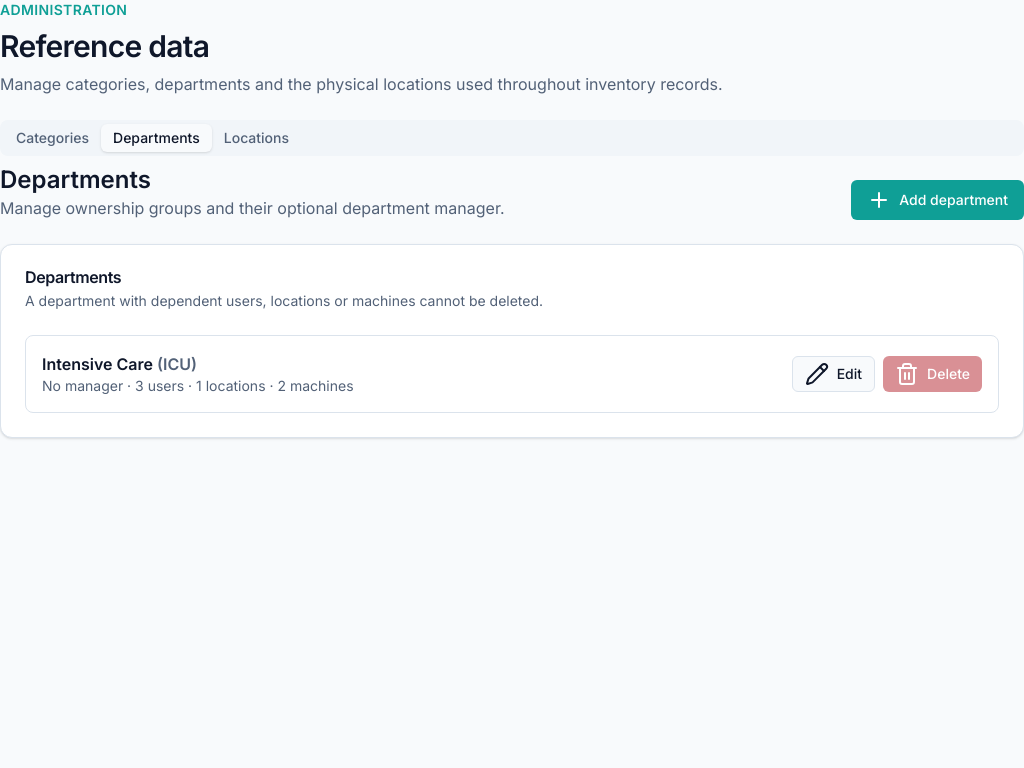
Test case: ReferenceManagement › loads only eligible manager names and warns that codes affect reports
Click the button with aria-label "Edit Intensive Care" at x=833, y=374, box [792, 356, 875, 392]
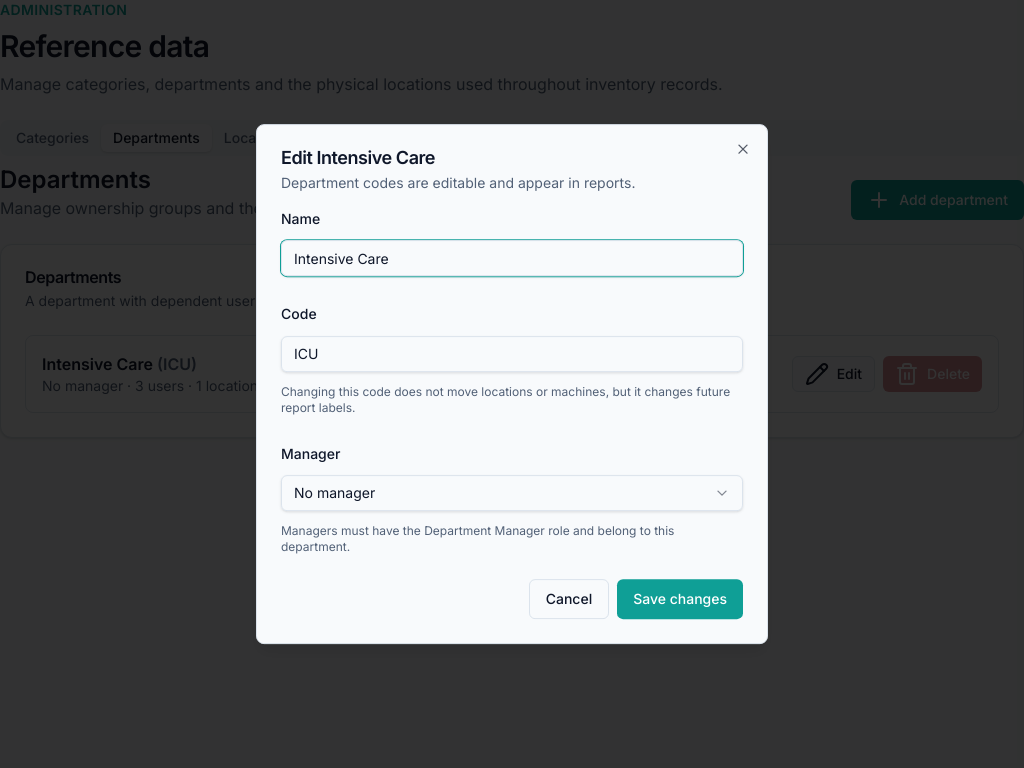
Result: the text "changes future report labels" is shown at [281, 384, 730, 415]
Click the dropdown labelled "manager" at x=335, y=492, box [281, 475, 743, 511]
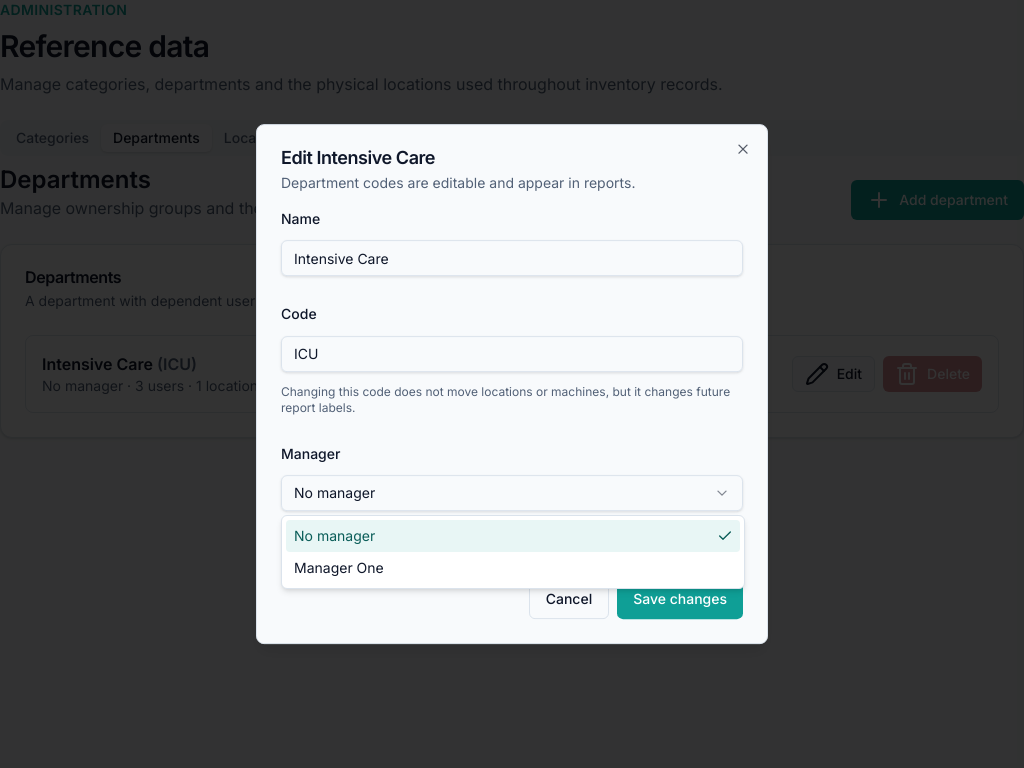
Result: the option "Manager One" is shown at [294, 559, 384, 576]
